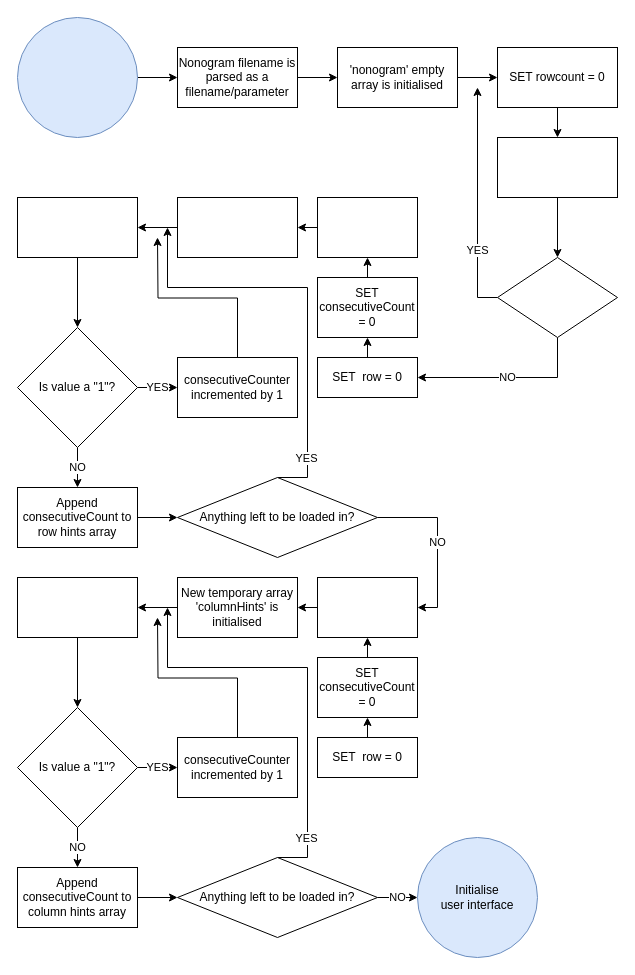
Some shapes in this 635 by 975 pixel diagram are drawn without their labels. Each missing label, with the centre of its shape:
"Is there another row?" goes at point 557,297.
"New blank array 'horizontalHints' is initialised" goes at point 367,227.
"New blank array 'verticalHints' is initialised" goes at point 367,607.
"New temporary array 'rowHints' is initialised" goes at point 237,227.
"Next value in column is loaded in" goes at point 77,607.
"Next value in row is loaded in" goes at point 77,227.
"Nonogram loading subroutine" goes at point 77,77.
"Row of index 'rowcount' from .txt file is appended to 'nonogram' array" goes at point 557,167.
